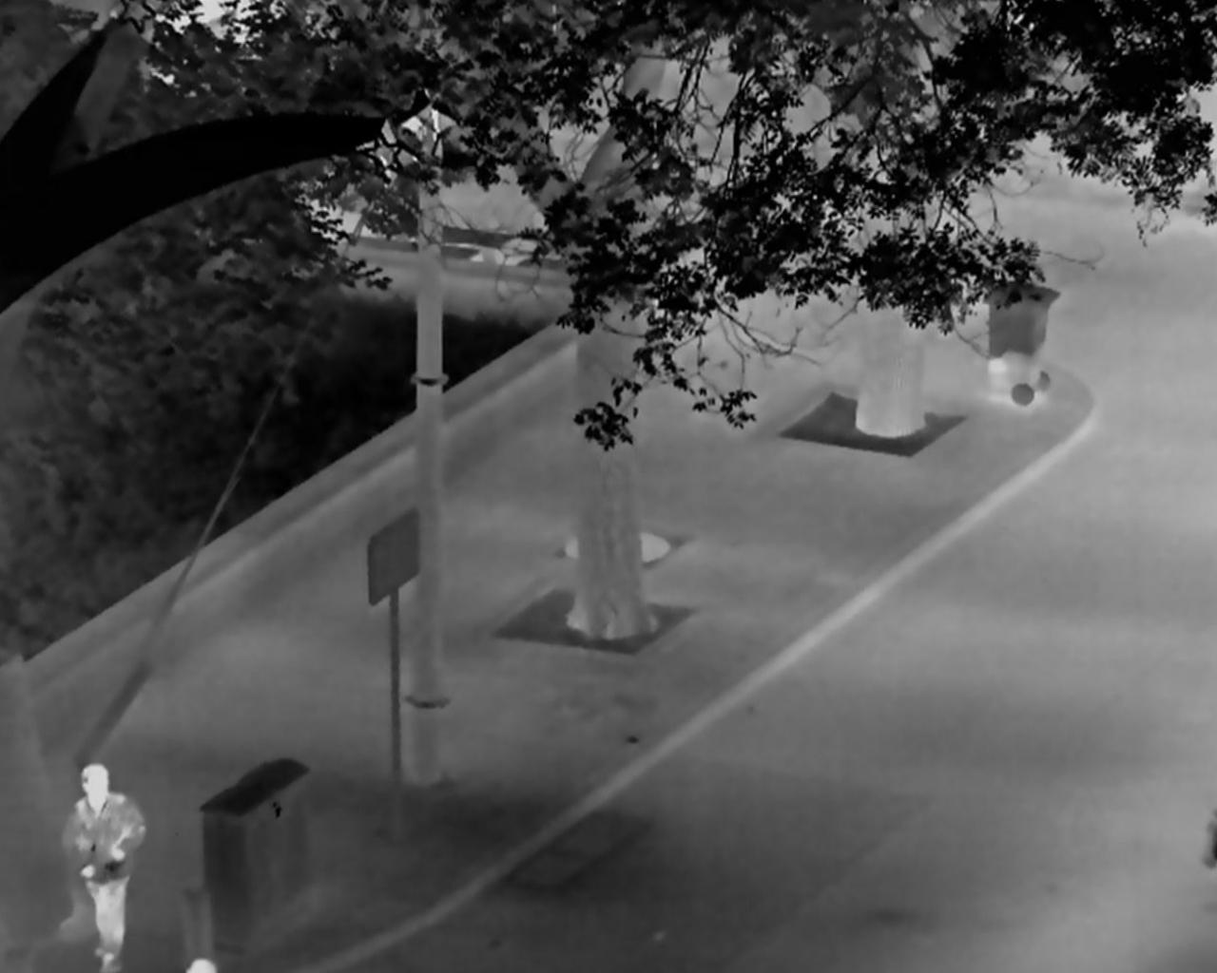person: (61, 763, 145, 971)
